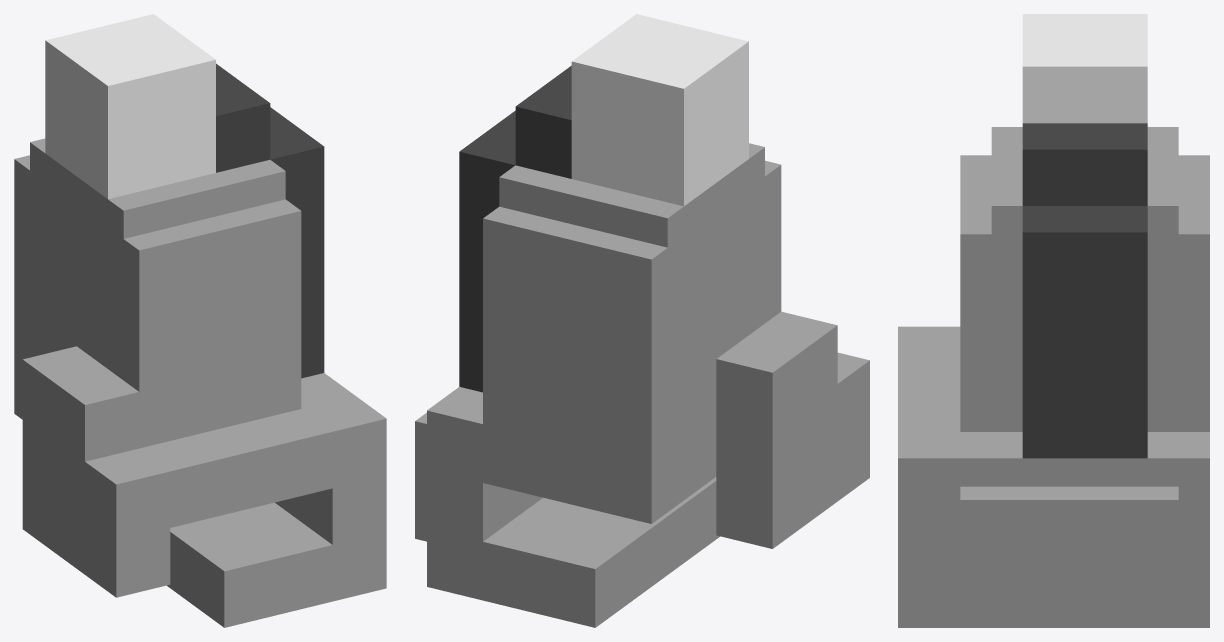
Rendered from PlayerDark-10-Player_LHand.obj.
3 views of the same model, side by side, from view 1: azimuth 30°, elevation 25°; view 2: azimuth 150°, elevation 25°; view 3: azimuth 270°, elevation 25° (orthographic). The views are drawn at different scales.
Parts seen in each view (by area): view 1: Player_LHand; view 2: Player_LHand; view 3: Player_LHand.
Boxes of the visible parts, x1,y1,x2,y2 form: Player_LHand: (14, 14, 386, 627); Player_LHand: (415, 14, 869, 627); Player_LHand: (898, 14, 1209, 627).
Size of the model in its own units: 1.1 by 1.8 by 1.
Materials: 1 (1 with a texture image).
